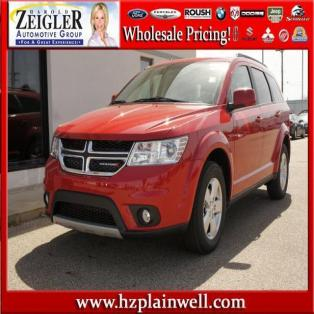Auto: (45, 56, 290, 250)
